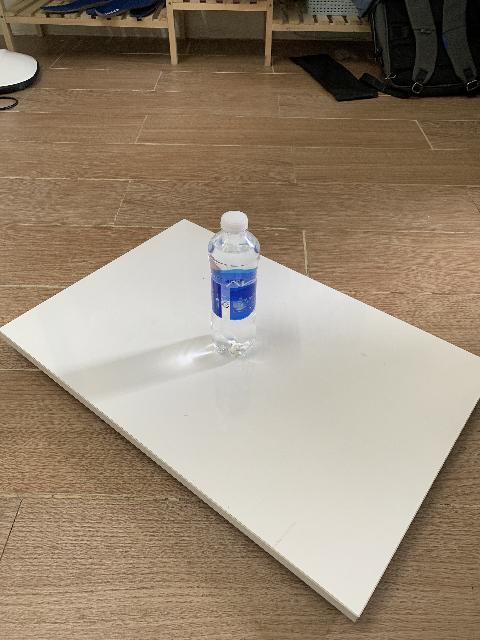aquafina: (208, 211, 260, 359)
